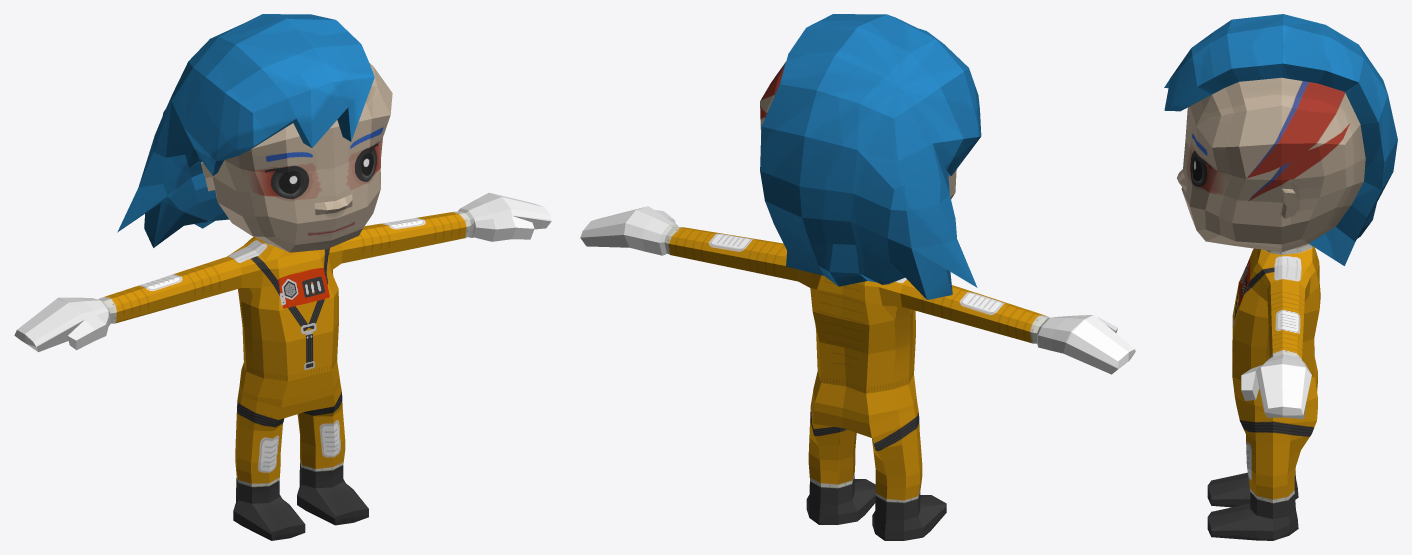
The model's file is eva-textured.glb.
3 renders of one model, left to right at view 1: azimuth 30°, elevation 25°; view 2: azimuth 150°, elevation 25°; view 3: azimuth 270°, elevation 25°, orthographic. The views are drawn at different scales.
Visible parts, largest first — view 1: Body; view 2: Body; view 3: Body.
Part boxes in pixels (x1=…): Body: x1=14, y1=14, x2=551, y2=540; Body: x1=580, y1=14, x2=1135, y2=540; Body: x1=1164, y1=14, x2=1397, y2=540.
Size of the model in its own units: 1.91 by 1.7 by 0.7379.
Materials: 1 (1 with a texture image).
